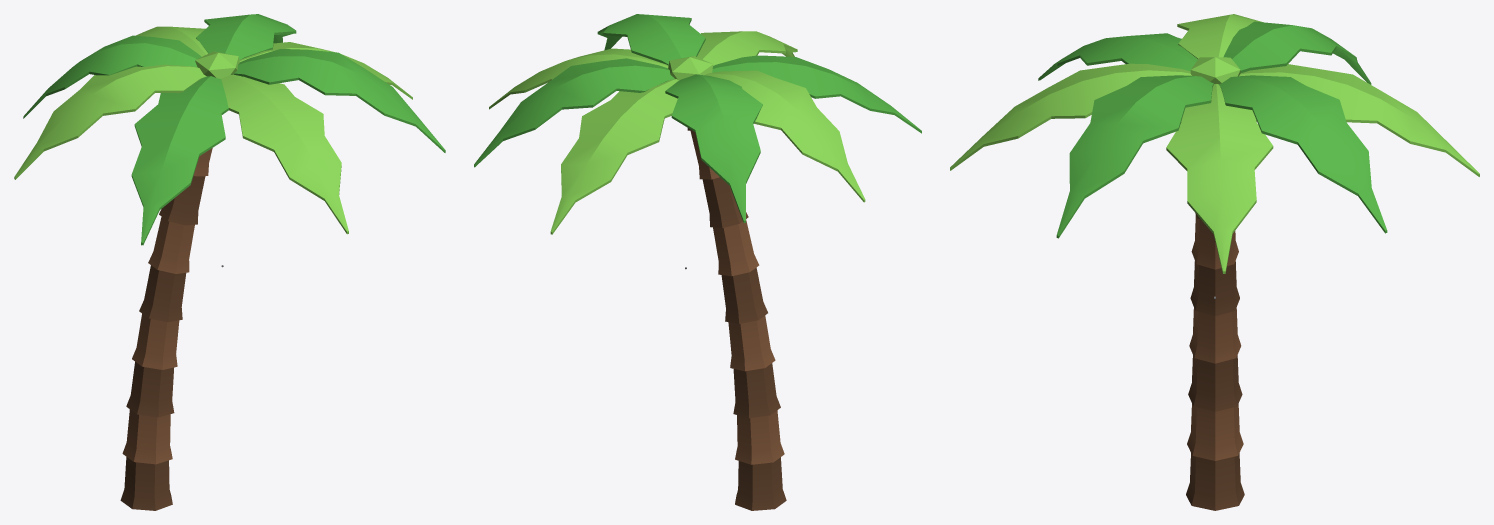
File: PalmTree.fbx
3 views of the same model, side by side, from view 1: azimuth 30°, elevation 25°; view 2: azimuth 150°, elevation 25°; view 3: azimuth 270°, elevation 25° (orthographic). The views are drawn at different scales.
Parts seen in each view (by area): view 1: PalmTree_Leaf, PalmTree_LeafLight, PalmTree_BarkDark, PalmTree_Bark; view 2: PalmTree_Leaf, PalmTree_LeafLight, PalmTree_BarkDark, PalmTree_Bark; view 3: PalmTree_Leaf, PalmTree_LeafLight, PalmTree_BarkDark, PalmTree_Bark.
Part boxes in pixels (x1,y1,x2,y2): PalmTree_Leaf: [23, 14, 445, 245]; PalmTree_LeafLight: [14, 26, 412, 234]; PalmTree_BarkDark: [120, 176, 205, 510]; PalmTree_Bark: [122, 148, 212, 464]; PalmTree_Leaf: [474, 14, 921, 222]; PalmTree_LeafLight: [489, 31, 865, 234]; PalmTree_BarkDark: [687, 128, 786, 510]; PalmTree_Bark: [690, 130, 784, 464]; PalmTree_Leaf: [1038, 21, 1387, 238]; PalmTree_LeafLight: [950, 14, 1479, 273]; PalmTree_BarkDark: [1186, 213, 1244, 510]; PalmTree_Bark: [1187, 215, 1243, 460].
Bounding box in the file's own units: 1186 × 1262 × 1258.
